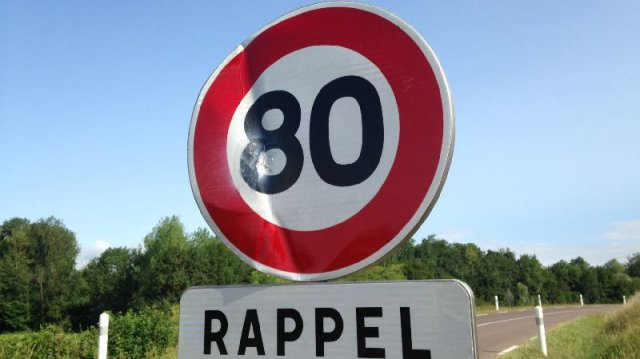Speed_limit_80km: (185, 6, 454, 285)
